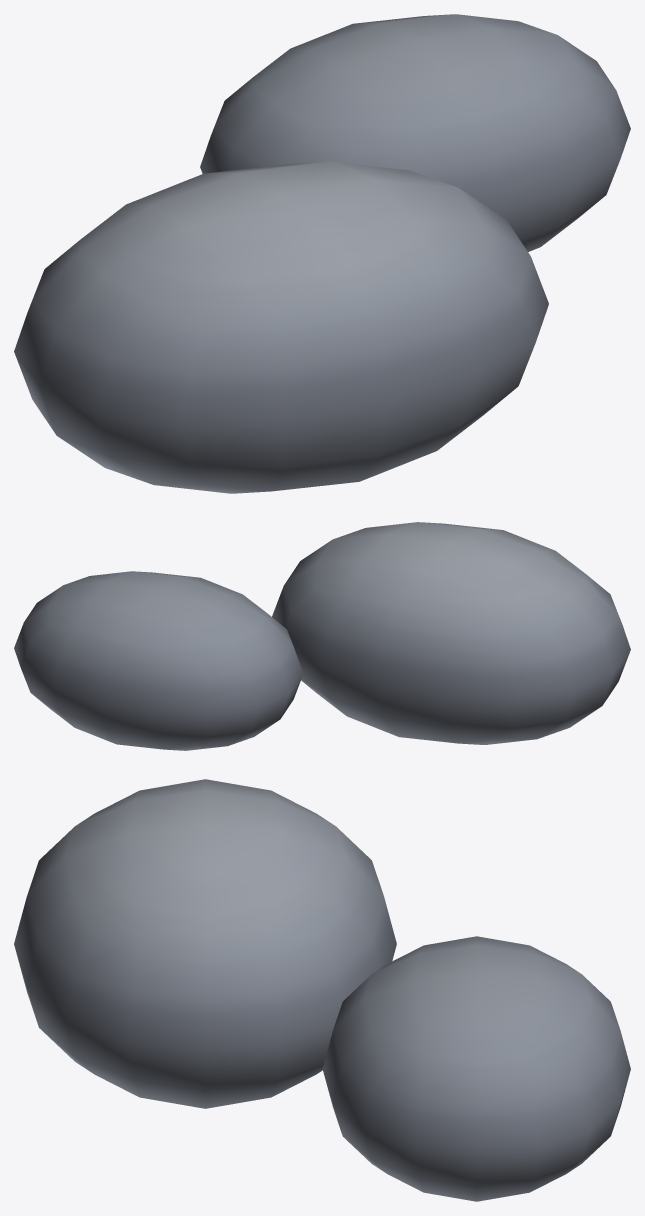
Rendered from Rocks-small-new.fbx.
3 renders of one model, top to bottom at view 1: azimuth 30°, elevation 25°; view 2: azimuth 150°, elevation 25°; view 3: azimuth 270°, elevation 25°, orthographic. The views are drawn at different scales.
Parts seen in each view (by area): view 1: pCube8; view 2: pCube8; view 3: pCube8.
Part boxes in pixels (x1=…): pCube8: x1=14, y1=14, x2=630, y2=493; pCube8: x1=14, y1=522, x2=630, y2=750; pCube8: x1=14, y1=779, x2=630, y2=1201.
Size of the model in its own units: 0.4777 by 0.168 by 0.394.
Materials: 1 (1 with a texture image).
